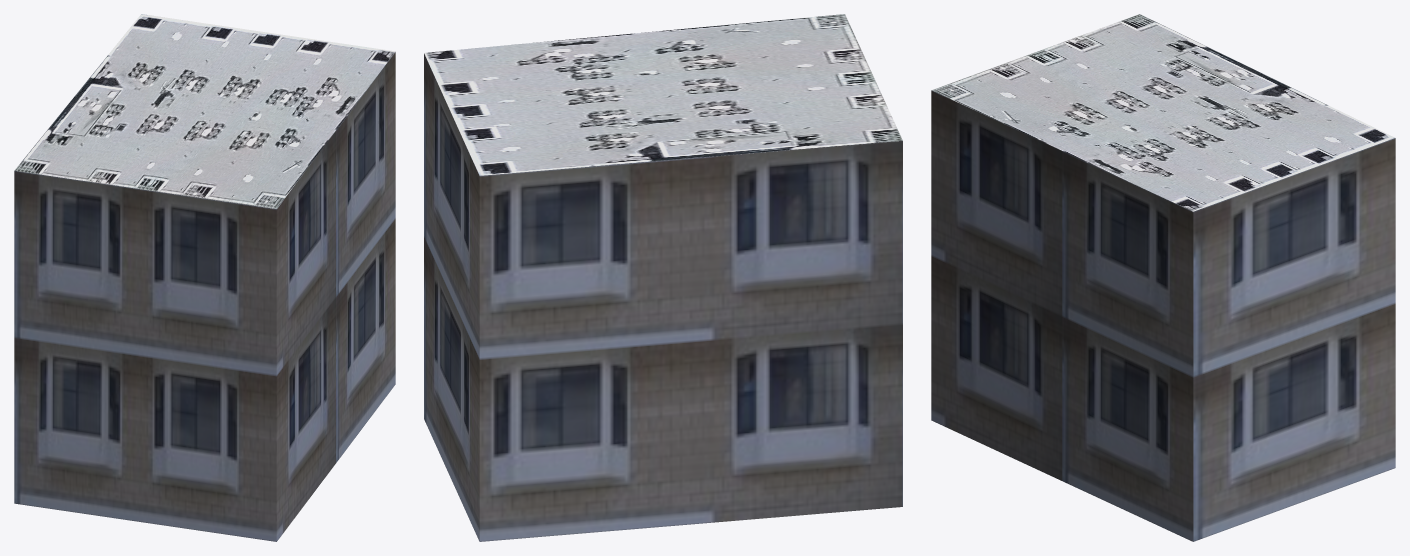
File: ResTex__1541.fbx
3 views of the same model, side by side, from view 1: azimuth 30°, elevation 25°; view 2: azimuth 150°, elevation 25°; view 3: azimuth 270°, elevation 25° (orthographic). The views are drawn at different scales.
Parts seen in each view (by area): view 1: CityEngineMaterial_3_m, CityEngineMaterial_4_m; view 2: CityEngineMaterial_3_m, CityEngineMaterial_4_m; view 3: CityEngineMaterial_3_m, CityEngineMaterial_4_m.
Boxes of the visible parts, x1,y1,x2,y2 form: CityEngineMaterial_3_m: [14, 52, 395, 541]; CityEngineMaterial_4_m: [14, 14, 395, 208]; CityEngineMaterial_3_m: [424, 53, 902, 541]; CityEngineMaterial_4_m: [424, 14, 902, 175]; CityEngineMaterial_3_m: [931, 90, 1395, 541]; CityEngineMaterial_4_m: [932, 14, 1394, 211].
Bounding box in the file's own units: 7.71 × 6 × 7.64.
Materials: 2 (2 with a texture image).
